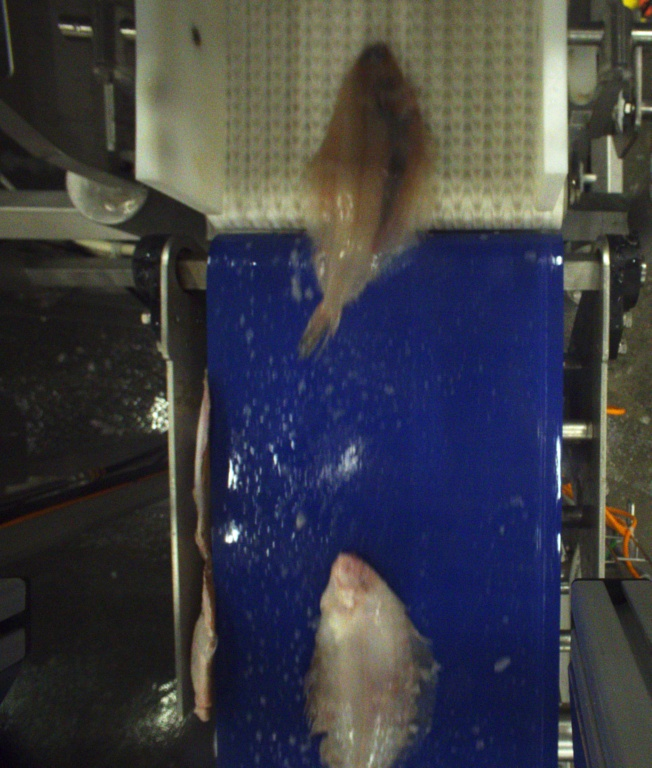WIT: (304, 41, 425, 356)
